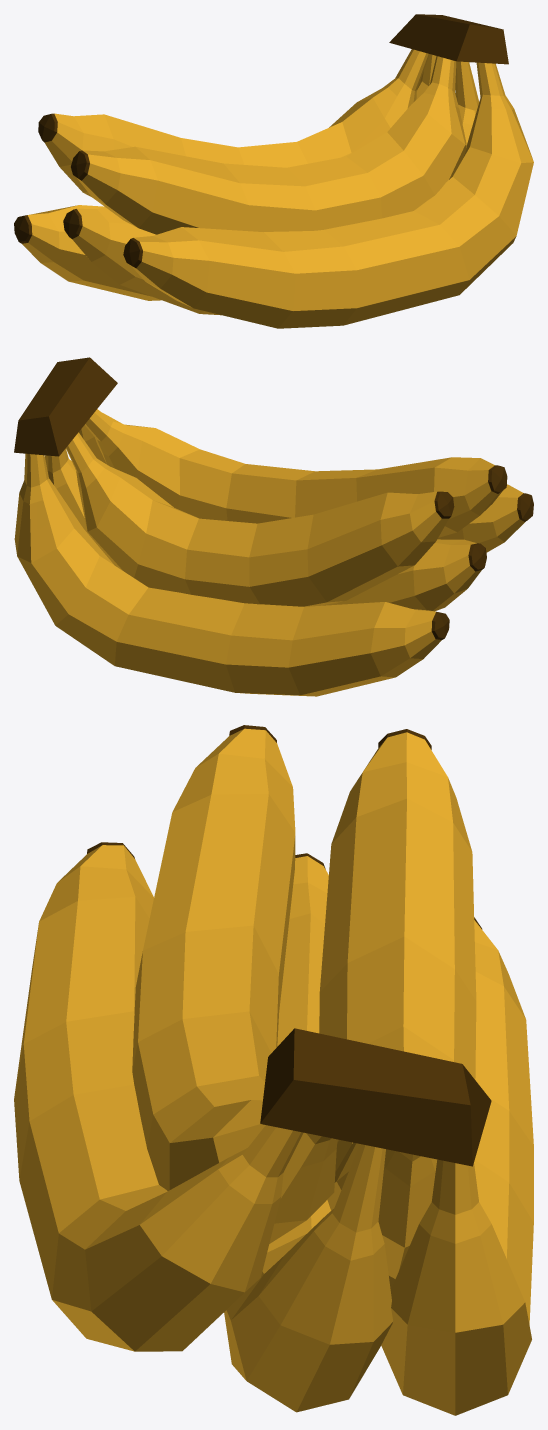
File: Ma_Fruit_Banana.fbx
3 renders of one model, top to bottom at view 1: azimuth 30°, elevation 25°; view 2: azimuth 150°, elevation 25°; view 3: azimuth 270°, elevation 25°, orthographic. The views are drawn at different scales.
Visible parts, largest first — view 1: Ma_Fruit_Banana; view 2: Ma_Fruit_Banana; view 3: Ma_Fruit_Banana.
Boxes of the visible parts, x1=… form: Ma_Fruit_Banana: x1=14, y1=14, x2=533, y2=328; Ma_Fruit_Banana: x1=14, y1=357, x2=533, y2=696; Ma_Fruit_Banana: x1=14, y1=725, x2=533, y2=1415.
Size of the model in its own units: 190 by 109 by 105.
